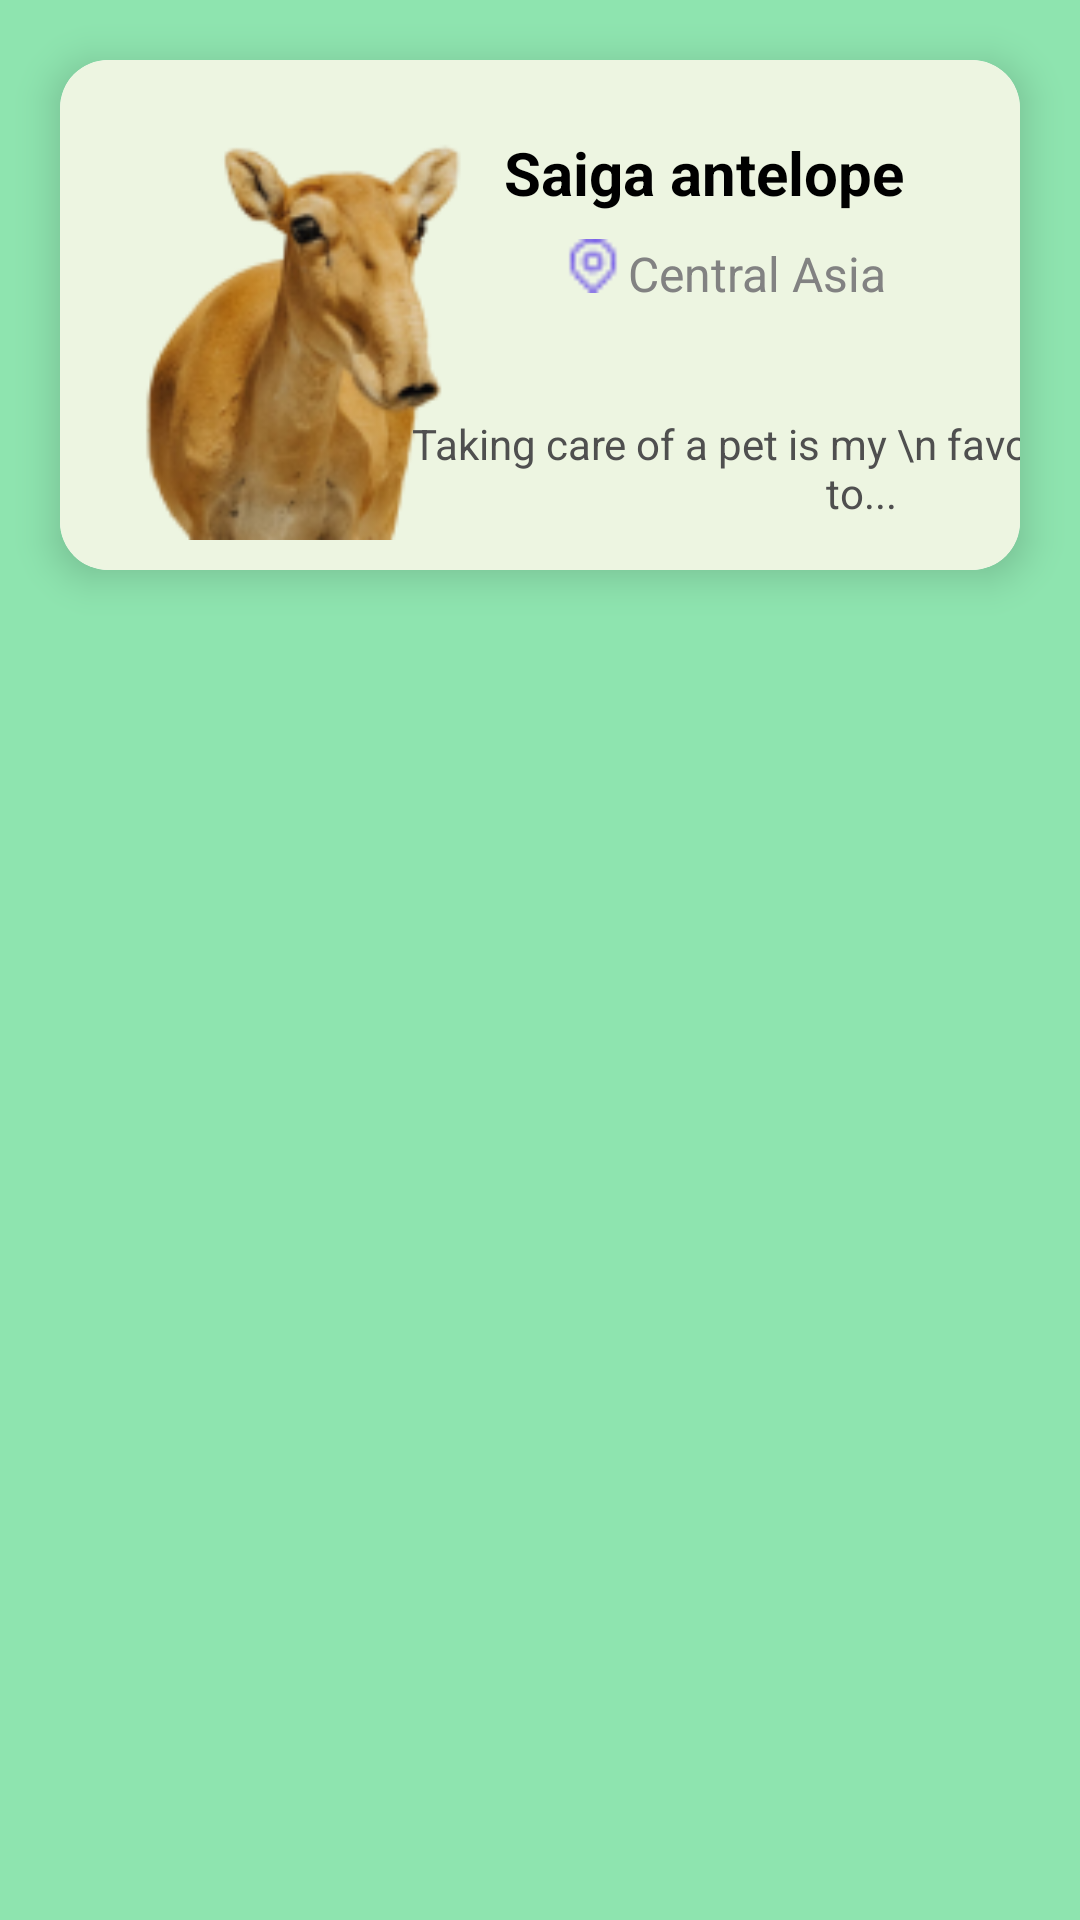

Named icons in this screenshot (1080px x 1920px) and their centers, [x,y]:
pin: [593,266]
